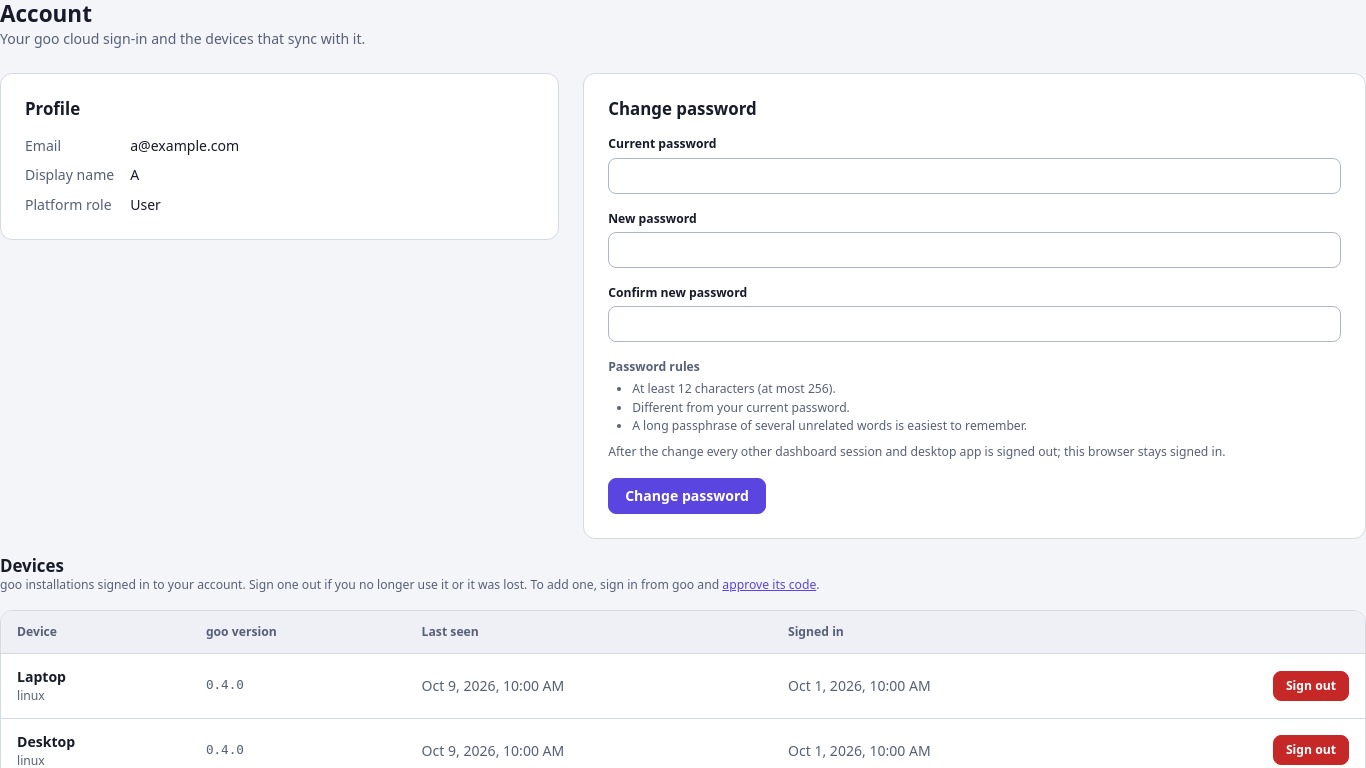
Test: Account: devices › lists the devices newest first and signs one out after confirmation
This screenshot has width=1366, height=768.
Expected: the text "0.4.0" next to "Laptop" is shown, [206,677,244,692]
Click the button with aria-label "Sign out Laptop".
click(1311, 686)  # box [1273,671,1349,701]
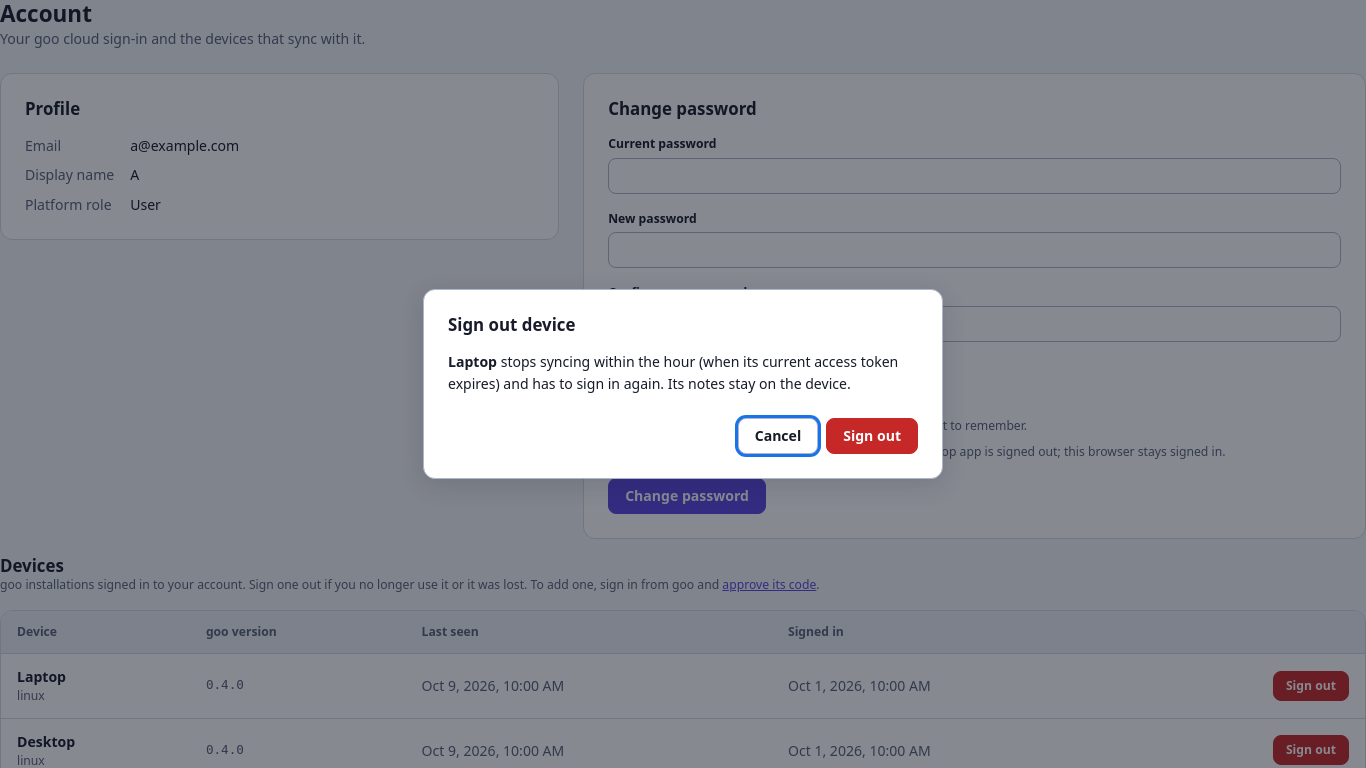
Click the button "Sign out".
click(872, 436)  # box [826,418,918,454]
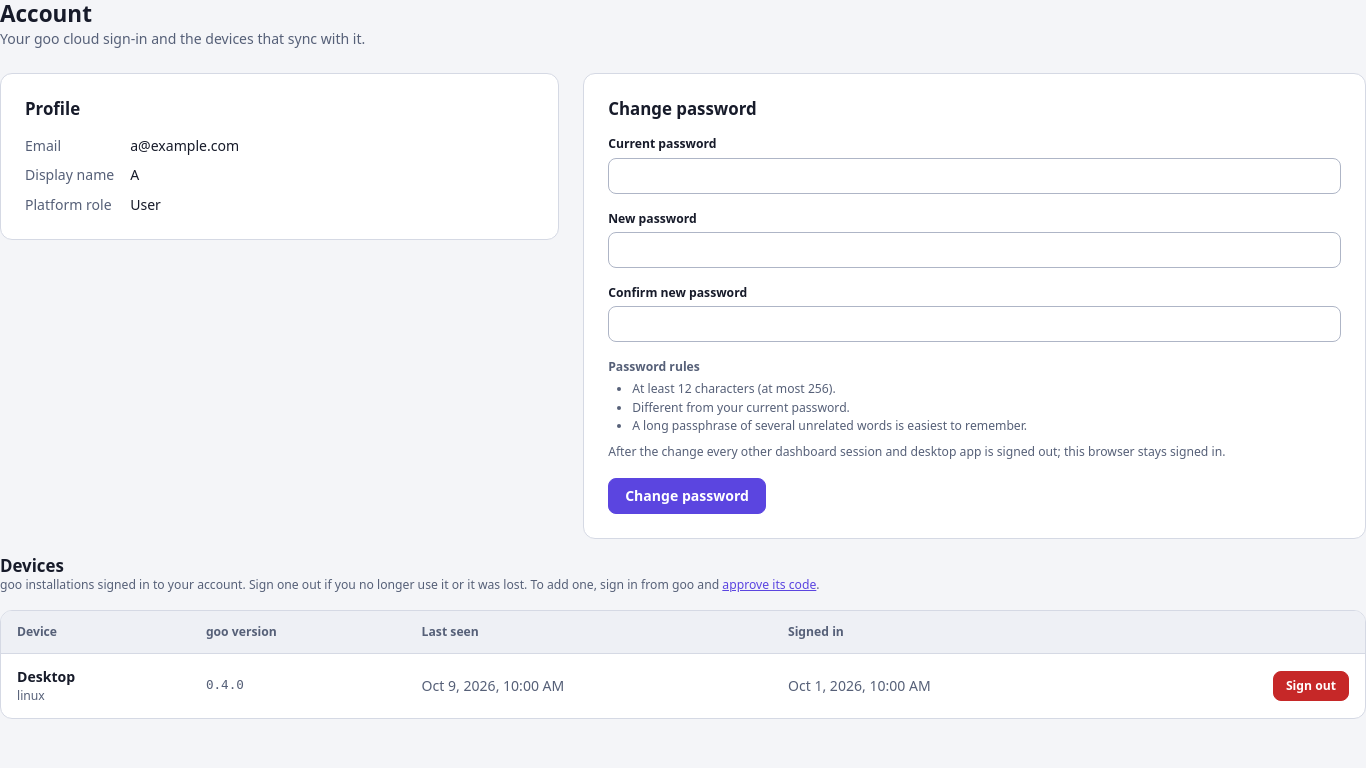
Expected: the text "Desktop" is shown, [17,667,75,686]
Expected: the text "Laptop" is gone
